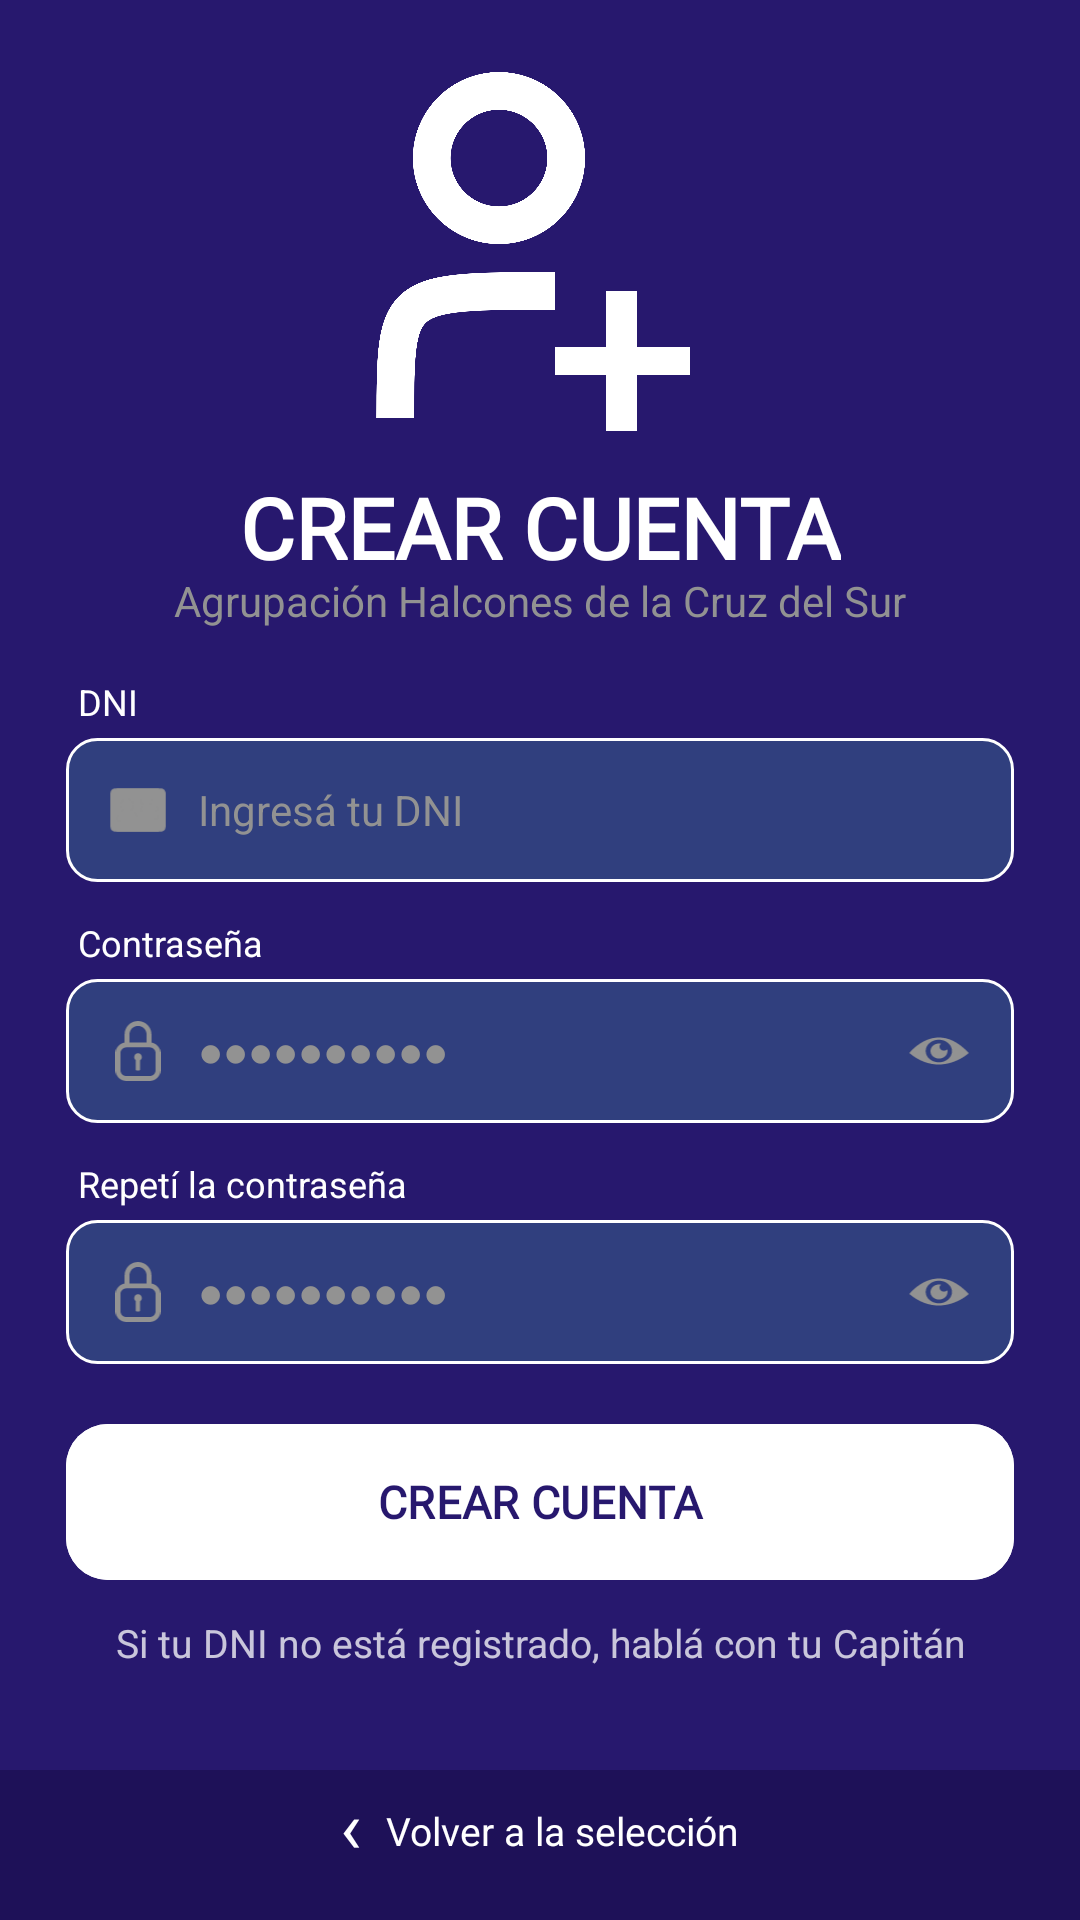

Icons on this 1080px×1920px Android screen, each with the point to tap as point (x, y):
candado: point (138, 1051), point (138, 1292)
ojo: point (939, 1051), point (939, 1292)
user add: point (533, 251)
